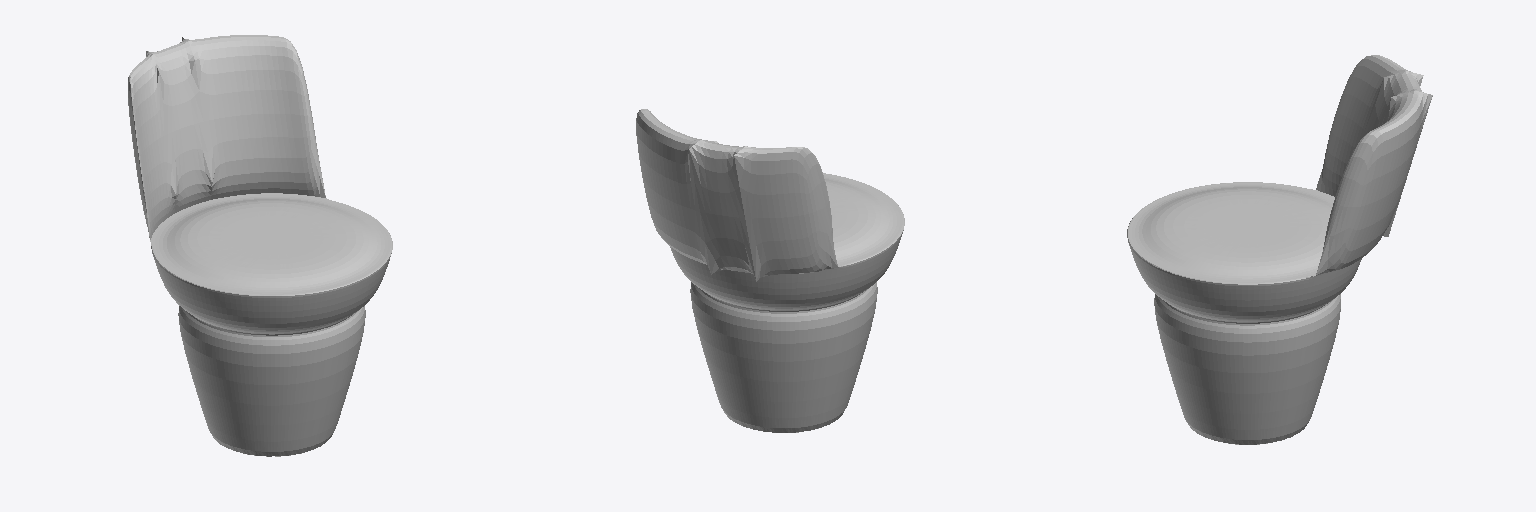
File: kursiPenumpang.obj
3 renders of one model, left to right at view 1: azimuth 30°, elevation 25°; view 2: azimuth 150°, elevation 25°; view 3: azimuth 270°, elevation 25°, orthographic.
Parts seen in each view (by area): view 1: Cylinder; view 2: Cylinder; view 3: Cylinder.
Boxes of the visible parts, <box> form: Cylinder: <box>128,35,392,456</box>; Cylinder: <box>636,109,904,432</box>; Cylinder: <box>1127,55,1432,444</box>.
Size of the model in its own units: 0.2875 by 0.4348 by 0.364.